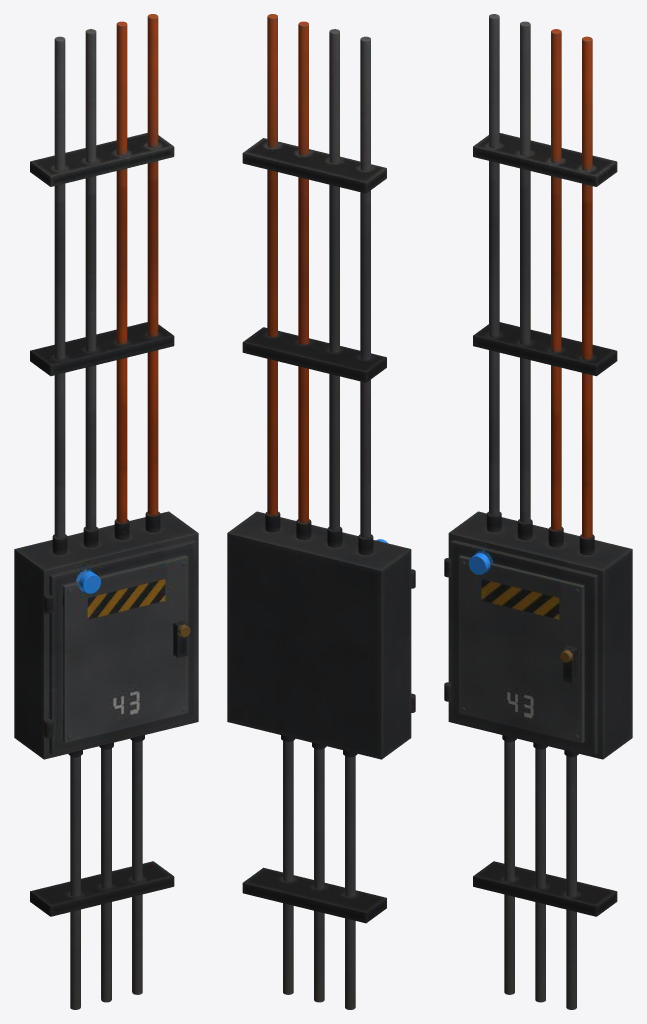
The model's file is junction_box.glb.
3 views of the same model, side by side, from view 1: azimuth 30°, elevation 25°; view 2: azimuth 150°, elevation 25°; view 3: azimuth 330°, elevation 25° (orthographic).
Parts seen in each view (by area): view 1: junction_box; view 2: junction_box; view 3: junction_box.
Part boxes in pixels (<box>): junction_box: <box>14,14,198,1009</box>; junction_box: <box>227,14,415,1009</box>; junction_box: <box>444,14,632,1009</box>.
Bounding box in the file's own units: 0.6049 × 3.6 × 0.285.
Materials: 1 (1 with a texture image).
